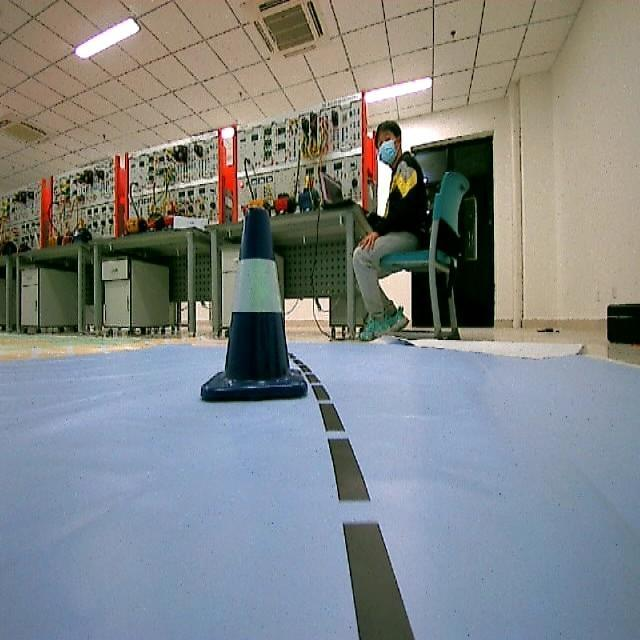obstacle: (196, 205, 304, 402)
